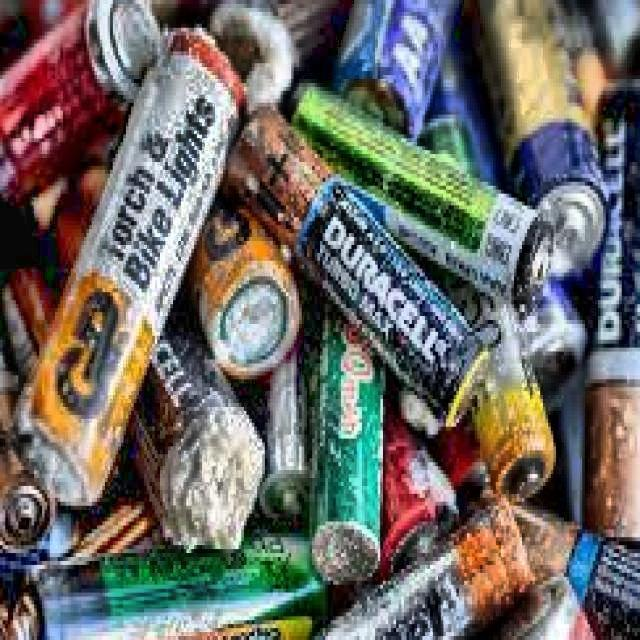battery: (16, 26, 246, 508), (222, 105, 483, 415), (286, 76, 552, 317)
